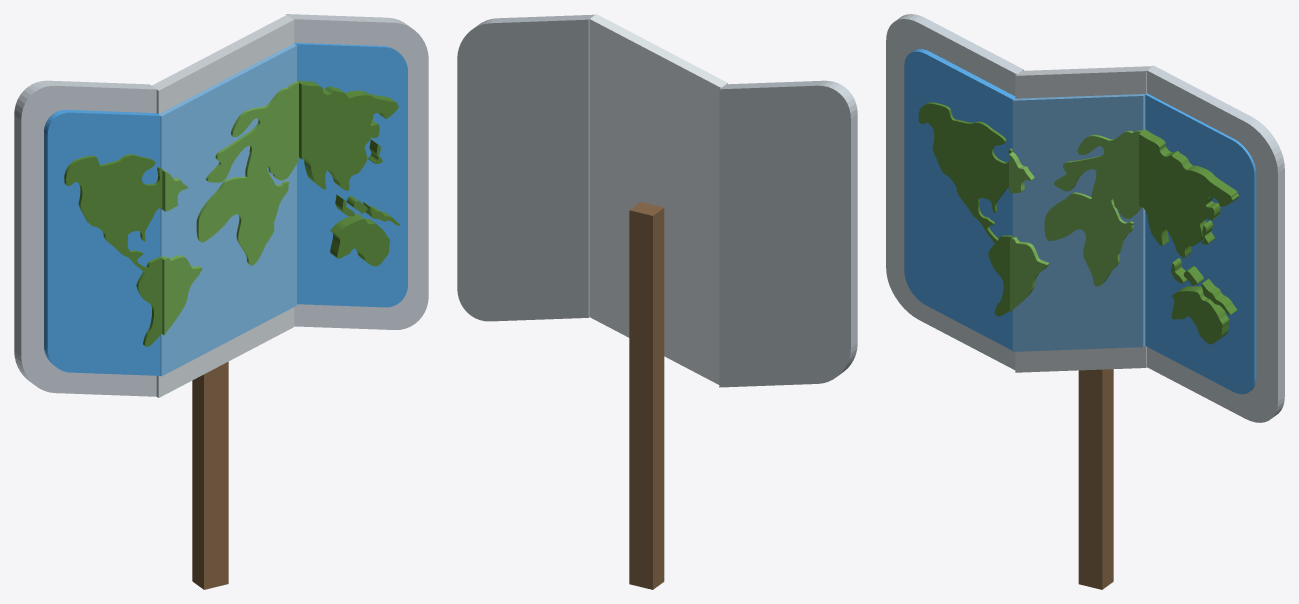
File: carte.glb
3 renders of one model, left to right at view 1: azimuth 30°, elevation 25°; view 2: azimuth 150°, elevation 25°; view 3: azimuth 330°, elevation 25°, orthographic. The views are drawn at different scales.
Bounding box in the file's own units: 1 × 1.31 × 0.145.
